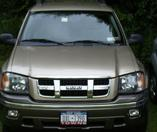front_view: (0, 69, 150, 132)
headlight: (118, 70, 149, 96)
